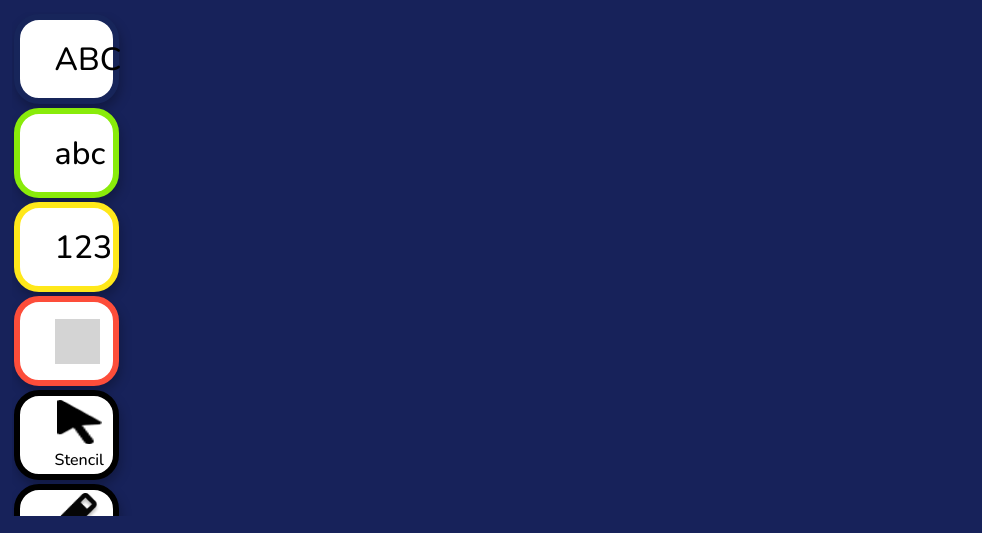
Test case: ControlBar component › shows options on click and hides when clicked again
Click the button "abc": click(66, 153) [14,108,119,198]
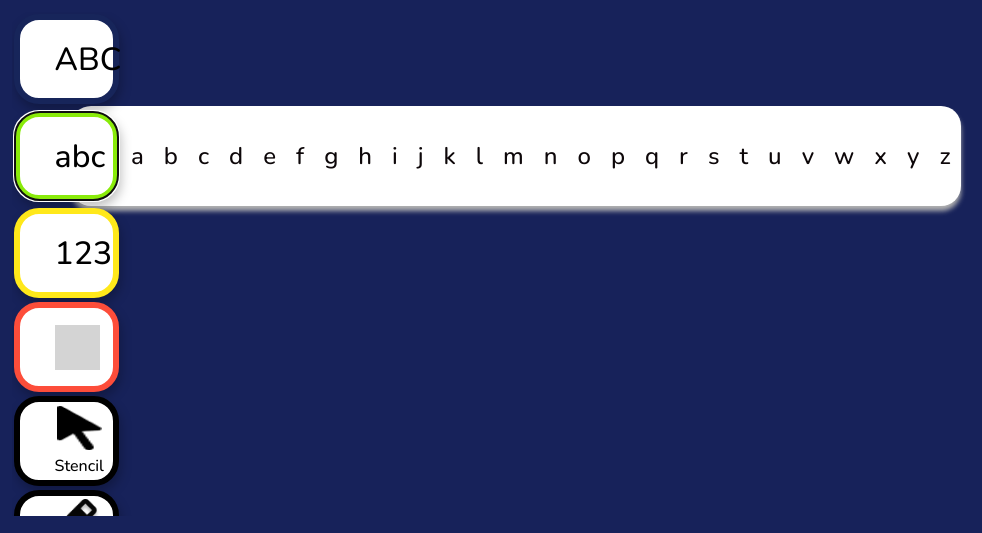
Expected: the element with test id "stencilOptions-lowerCase" is shown, [71,106,961,206]
Click the button "abc": click(66, 156) [14,111,119,201]
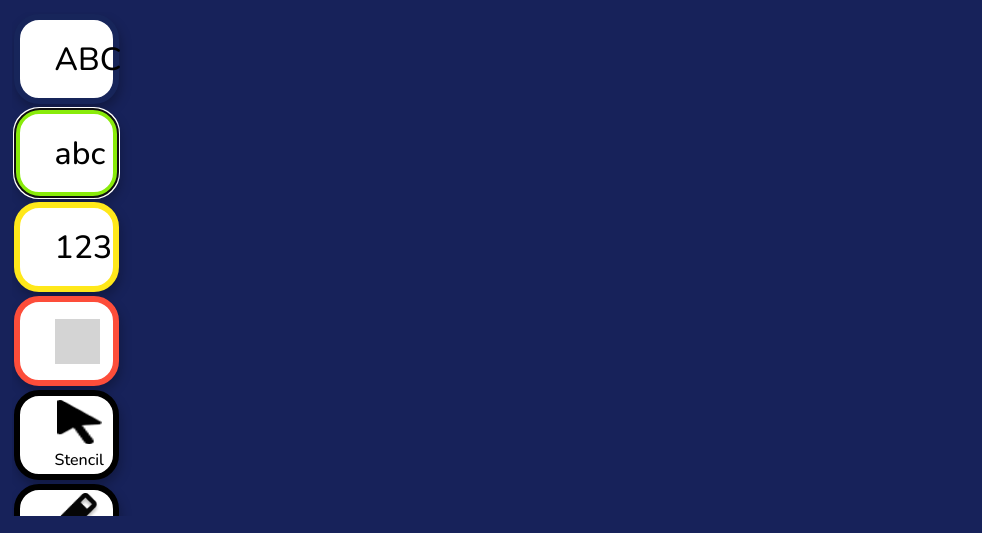
Expected: the element with test id "stencilOptions-lowerCase" is gone
